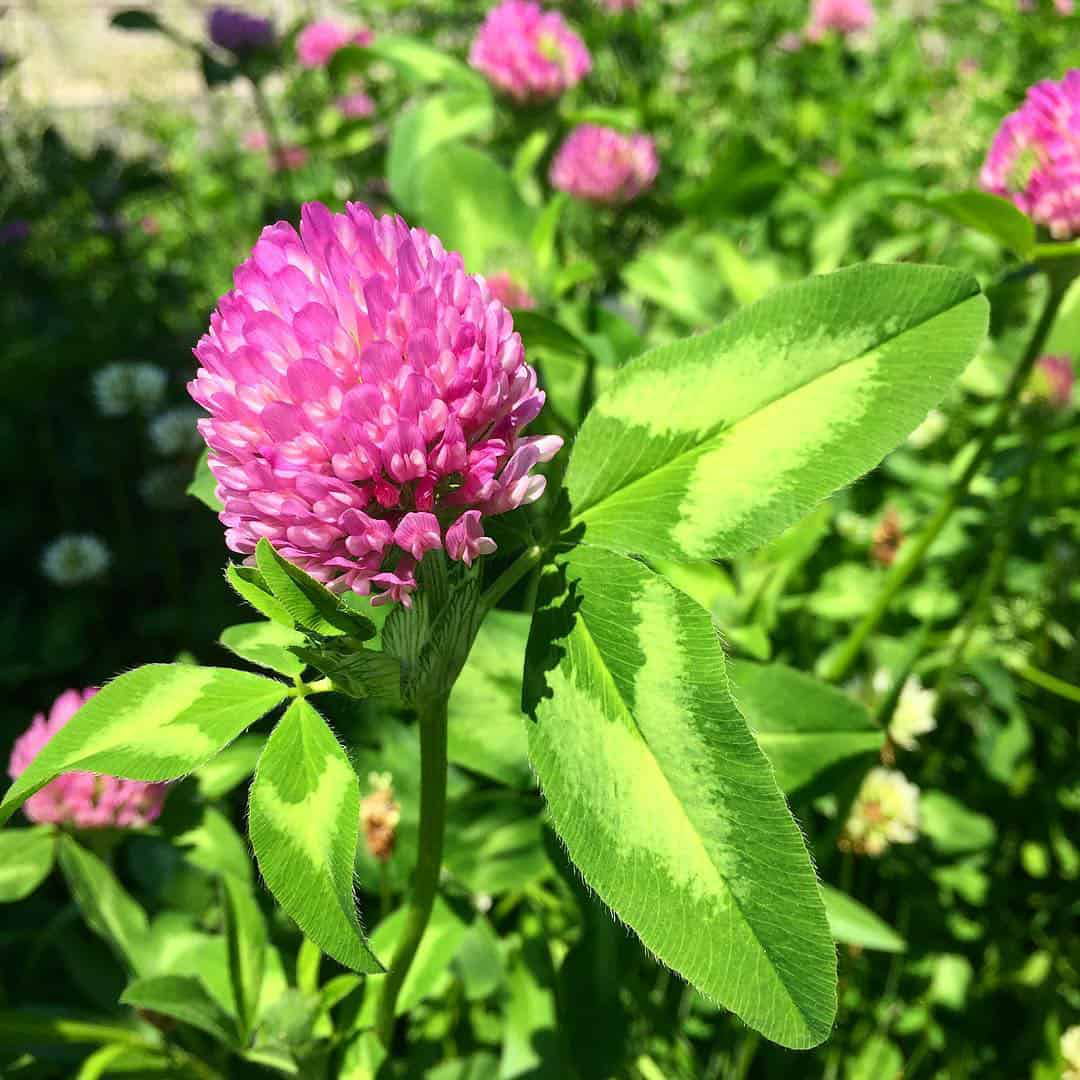clover blossom purple: (185, 195, 573, 603), (4, 677, 176, 841), (975, 64, 1080, 237), (460, 3, 595, 113), (546, 121, 663, 206)
